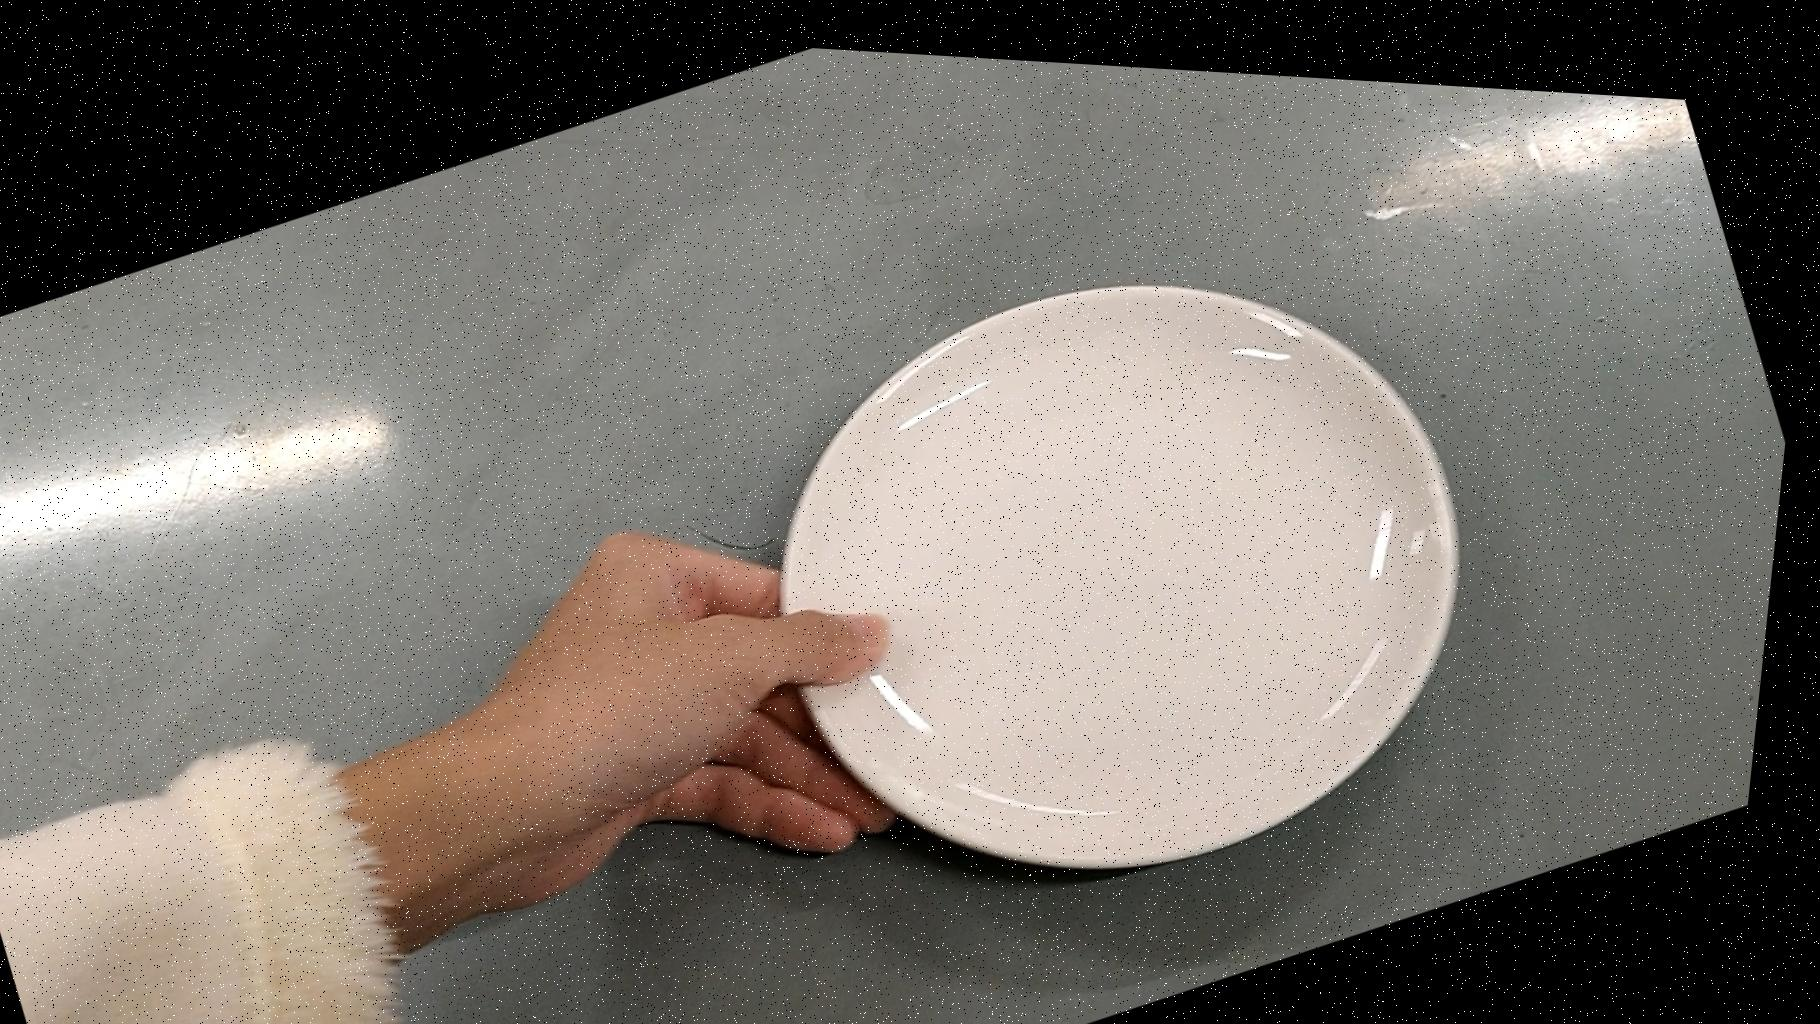plate: (674, 139, 1589, 985)
